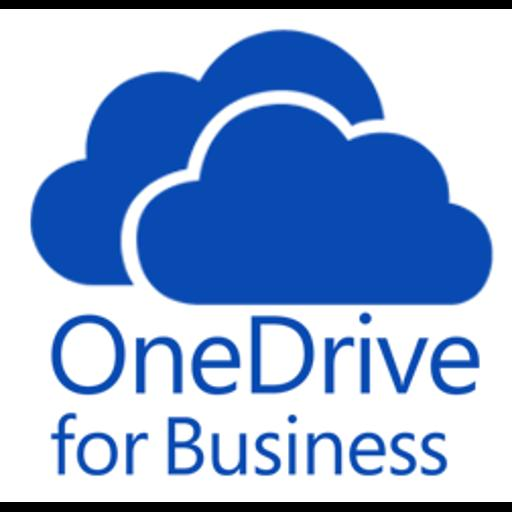Outlook: (0, 9, 512, 502)
